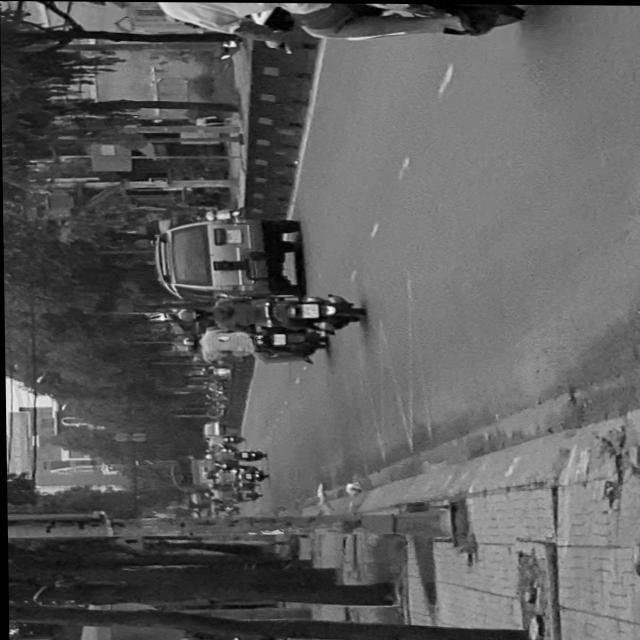licenseplate: (70, 0, 555, 45)
